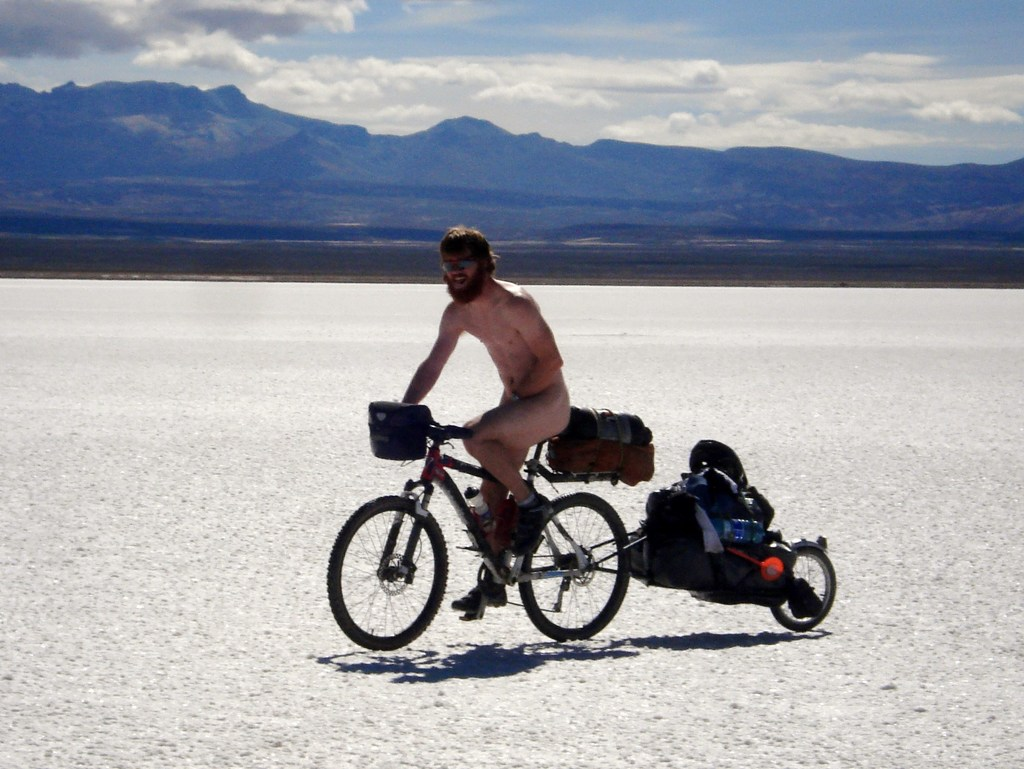Bike: (325, 398, 641, 656)
